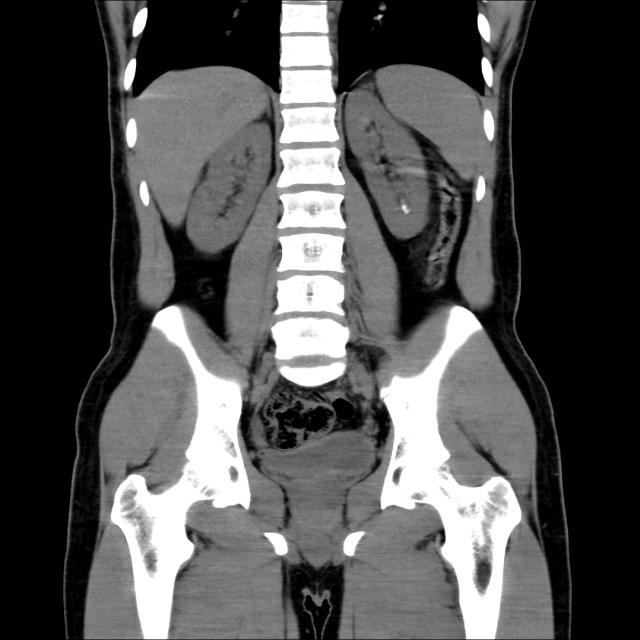kidneystone: (401, 200, 410, 214)
